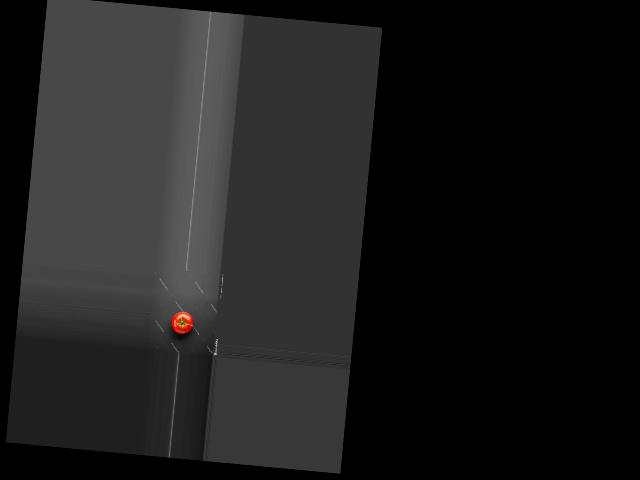tomato: (170, 310, 194, 334)
